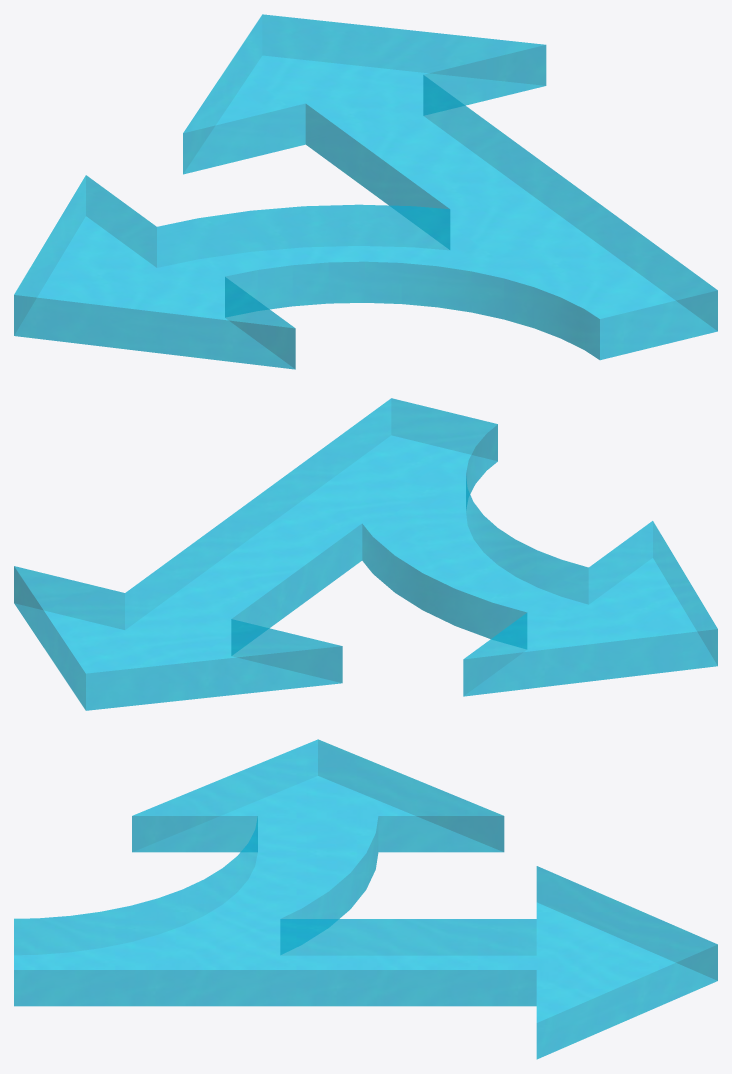
File: Double.fbx
The picture shows the model from 3 angles, top to bottom: view 1: azimuth 30°, elevation 25°; view 2: azimuth 150°, elevation 25°; view 3: azimuth 270°, elevation 25°; orthographic projection. The views are drawn at different scales.
Visible parts, largest first — view 1: Model; view 2: Model; view 3: Model.
Part boxes in pixels (bbox=[...]): Model: bbox=[14, 14, 717, 369]; Model: bbox=[14, 398, 717, 710]; Model: bbox=[14, 739, 717, 1059].
Bounding box in the file's own units: 133 × 8 × 140.
